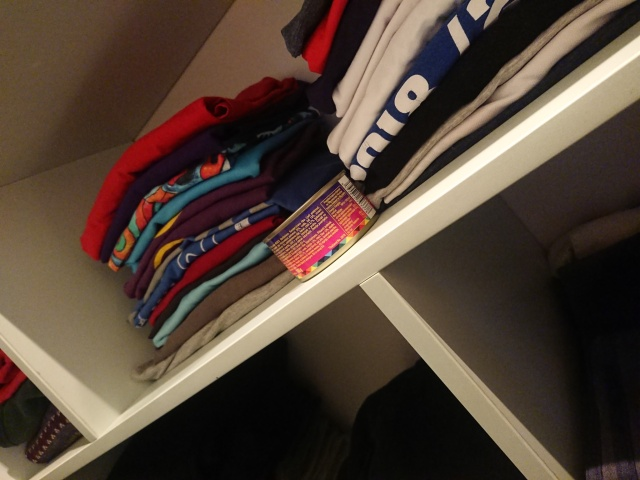Giana Tuna Salad Mexico 185g: (259, 166, 382, 285), (257, 164, 380, 283)
